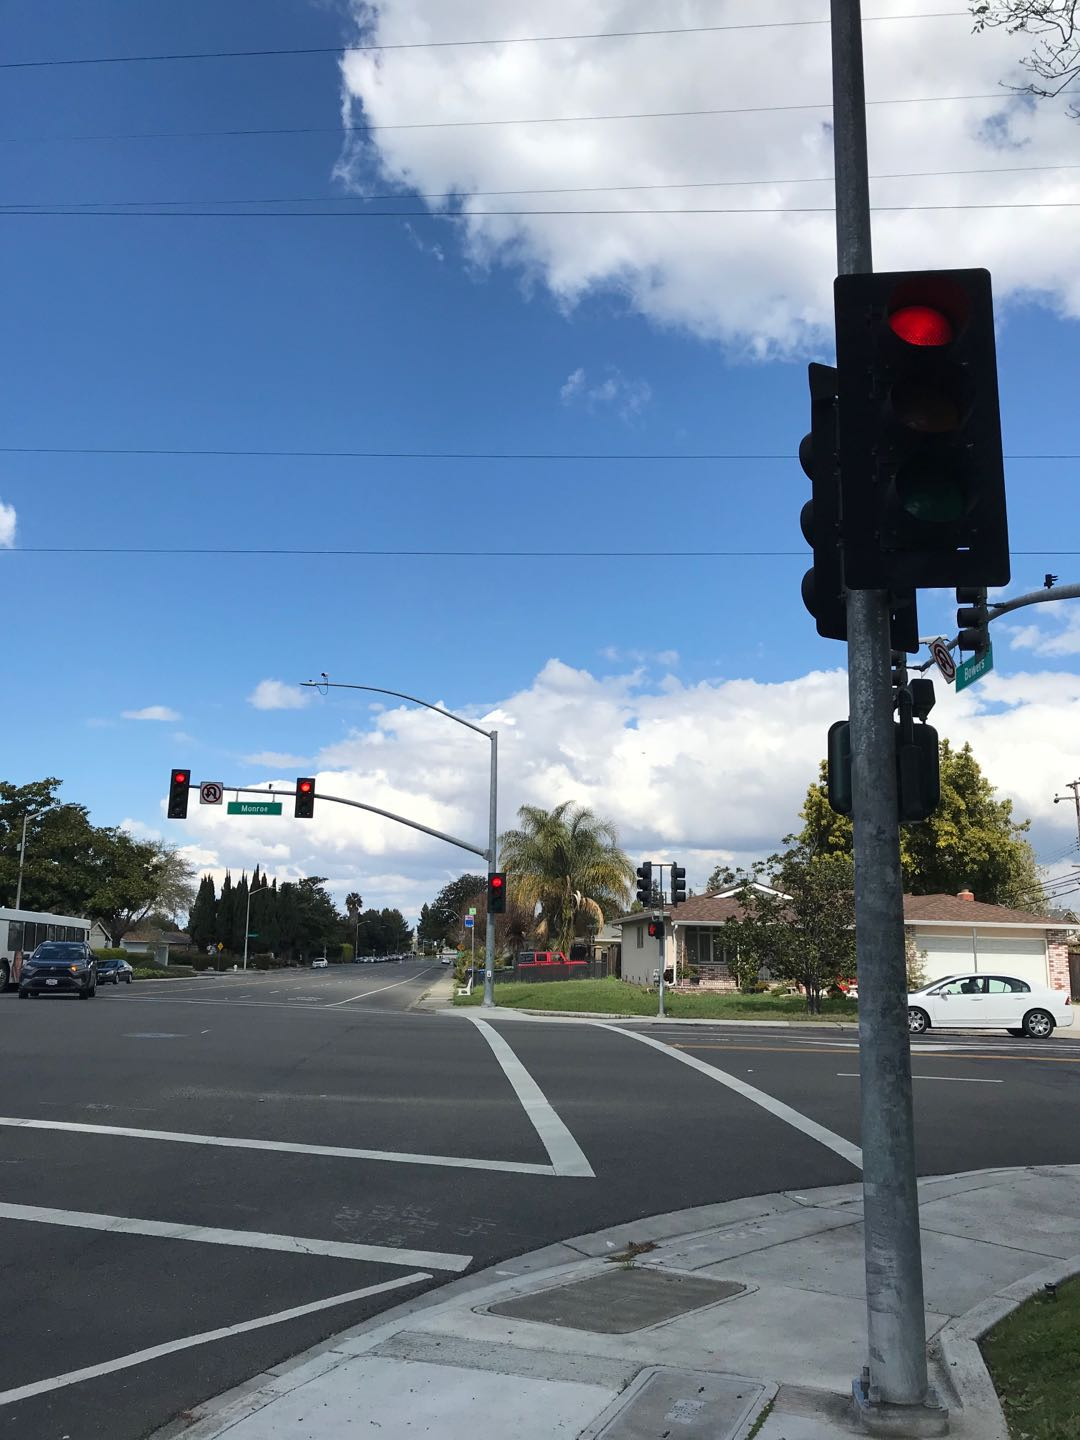red_light: (844, 285, 995, 577), (168, 766, 187, 814), (490, 869, 505, 912), (298, 776, 311, 818)
